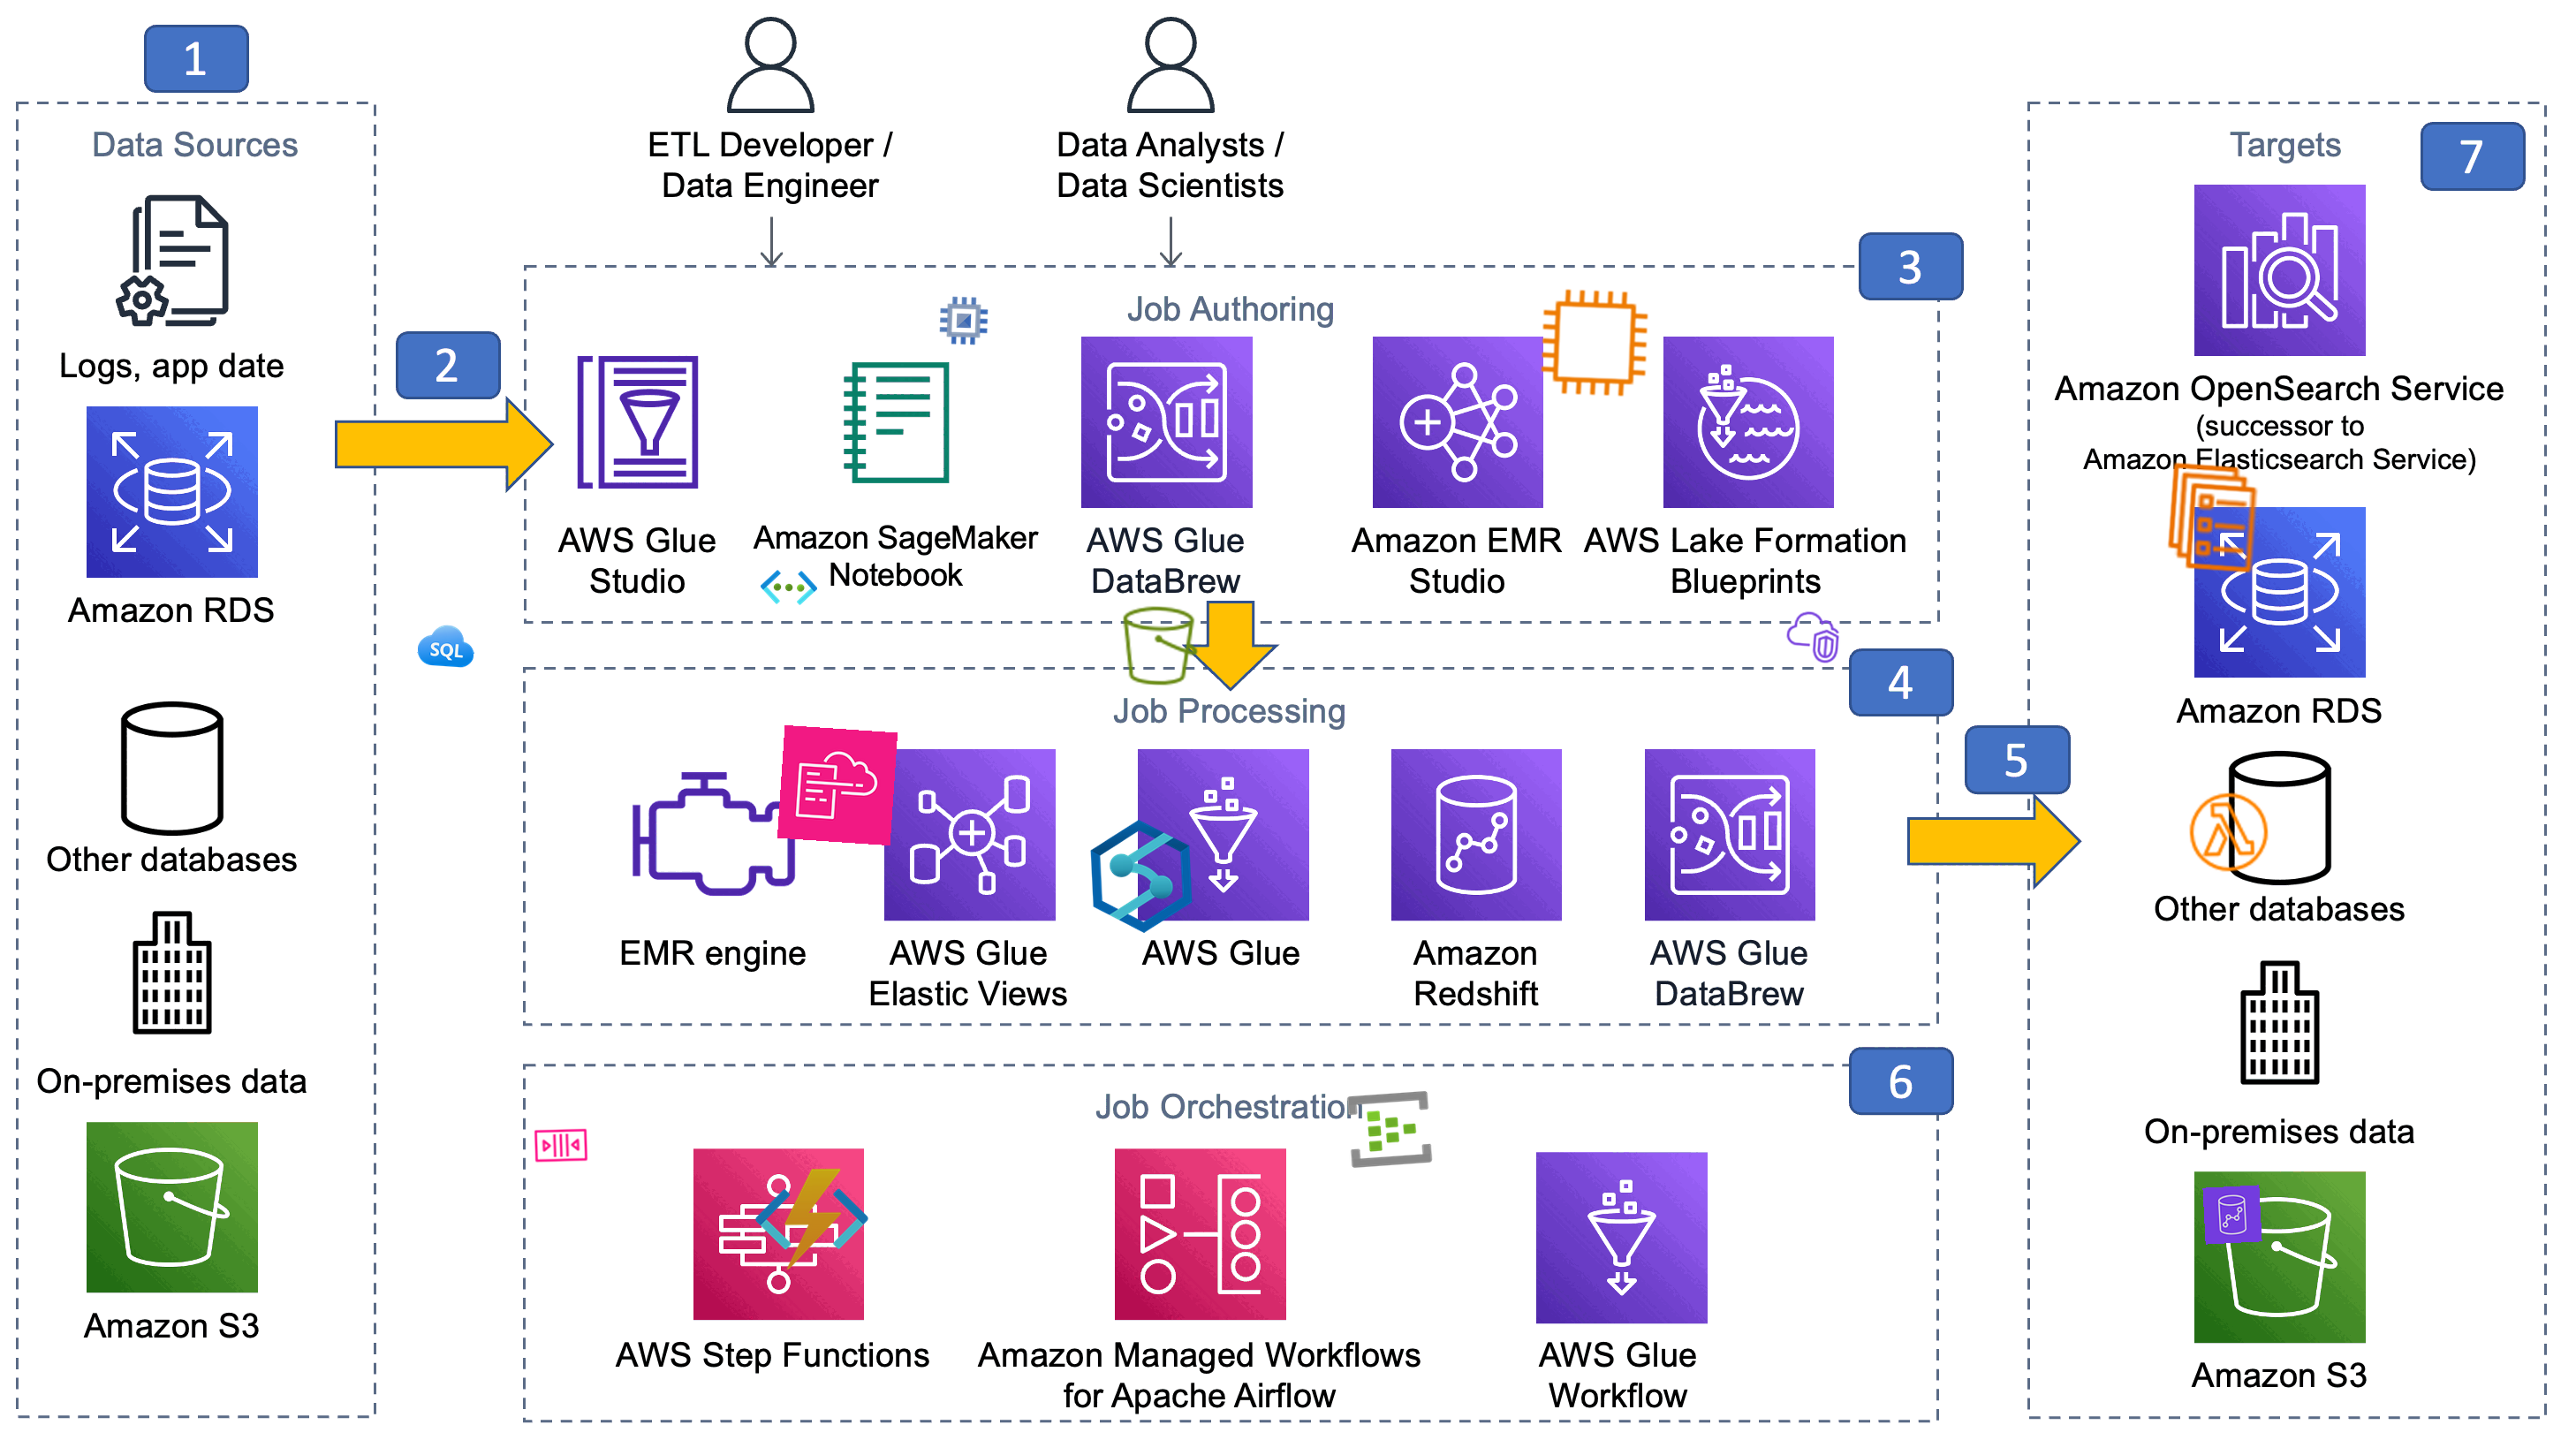aws_amazon_redshift: (2203, 1185, 2263, 1245)
aws_cloudformation: (777, 724, 899, 846)
aws_ec2_instance: (1536, 283, 1654, 402)
aws_elastic_container_service_service: (2151, 456, 2273, 578)
aws_lambda_lambda_function: (2185, 787, 2273, 876)
aws_simple_queue_service_queue: (533, 1116, 591, 1175)
aws_simple_storage_service_s3_standard: (1116, 601, 1205, 690)
aws_vpc_virtual_private_cloud_vpc: (1782, 607, 1844, 669)
azure_event_hubs: (1343, 1083, 1435, 1175)
azure_function_apps: (754, 1162, 869, 1277)
azure_sql: (416, 616, 478, 678)
azure_synapse_analytics: (1083, 817, 1201, 936)
azure_virtual_networks: (759, 557, 819, 617)
gcp_compute_engine: (934, 292, 993, 350)
